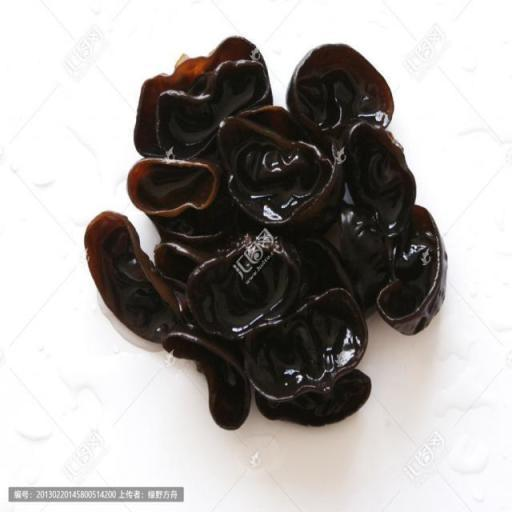mushroom: (83, 33, 449, 431)
